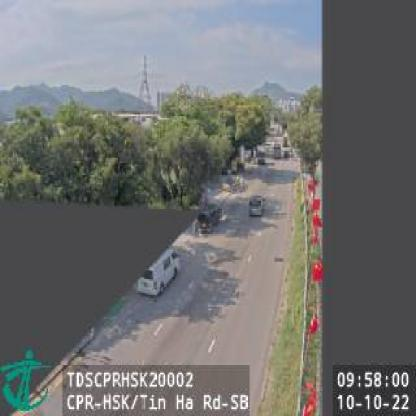Car: (135, 245, 184, 296), (196, 202, 224, 232), (249, 195, 265, 216)
